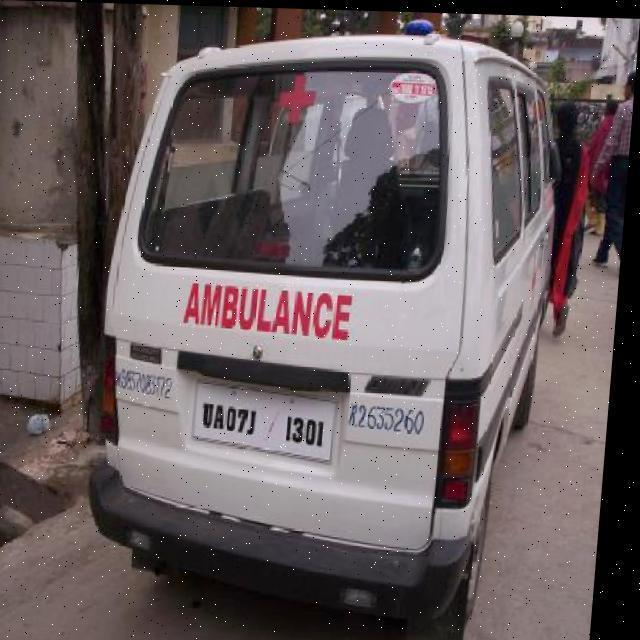Ambulance: (80, 13, 580, 640), (582, 62, 636, 278)
